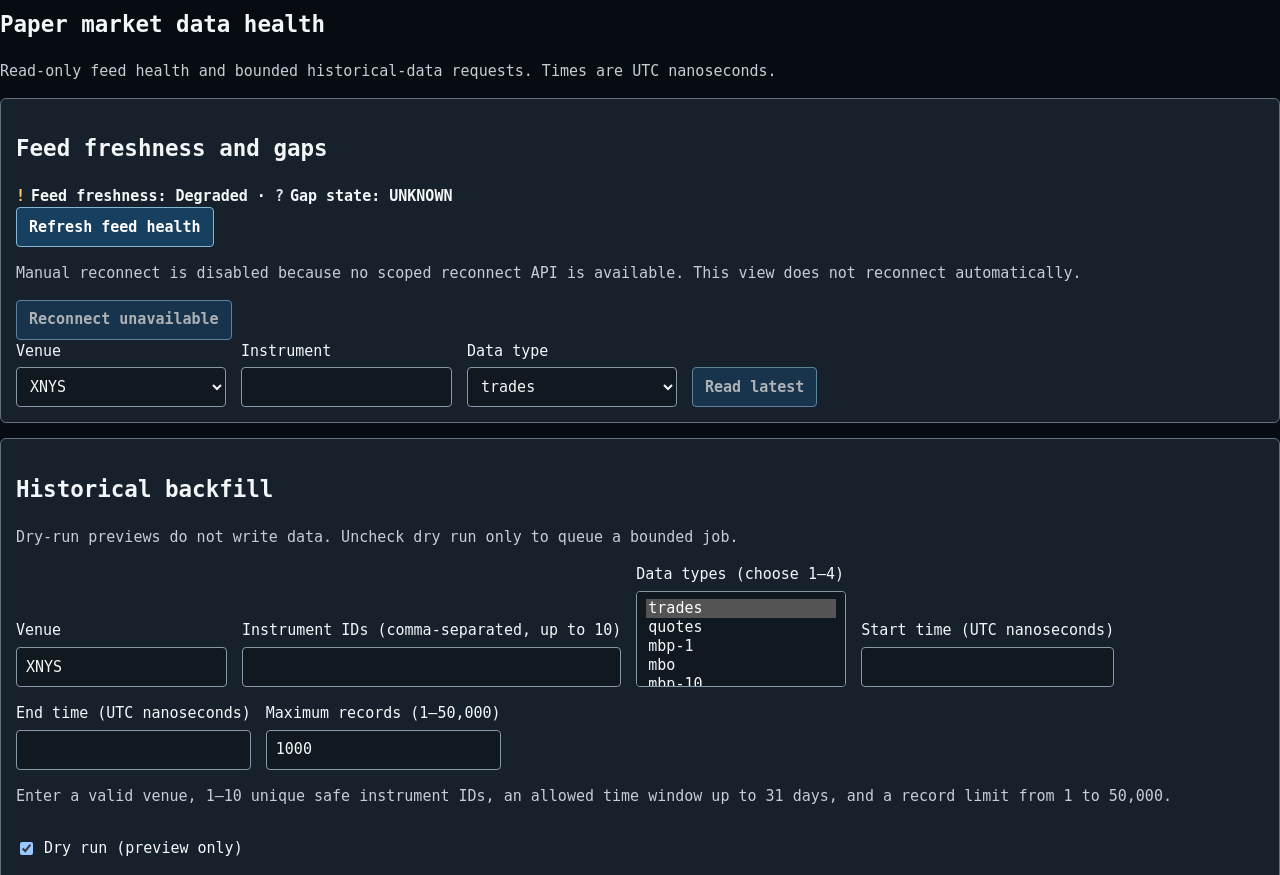
Test: PAPER-MARKET-DATA-HEALTH-UI-001 independent acceptance › rejects a QUEUED body with HTTP 200 and does not show a queued job
Type "AAPL" into the field named "Backfill instruments" at (432, 667), box [242,647,621,687]
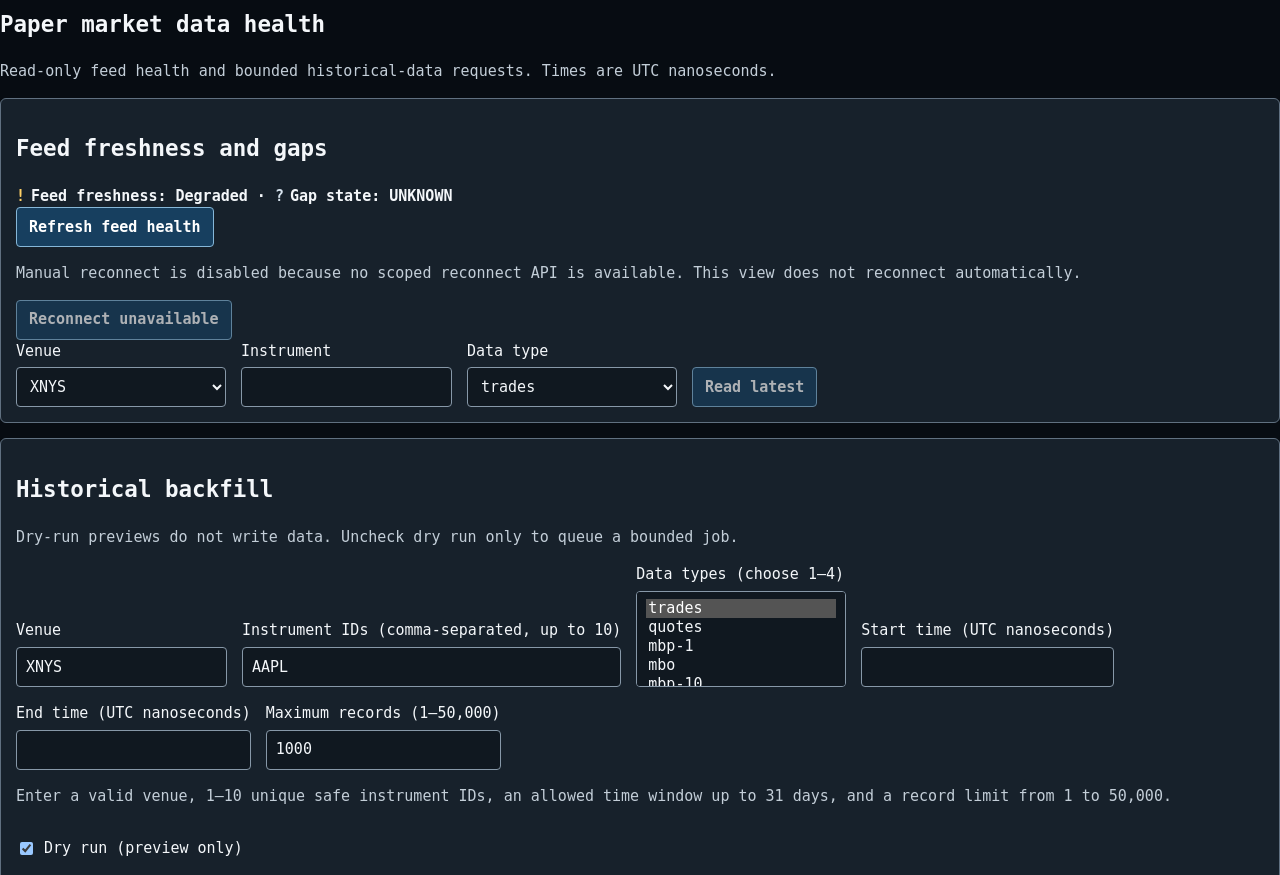
Type "1710000000000000001" into the field named "Backfill start time UTC nanoseconds" at (988, 667), box [861,647,1114,687]
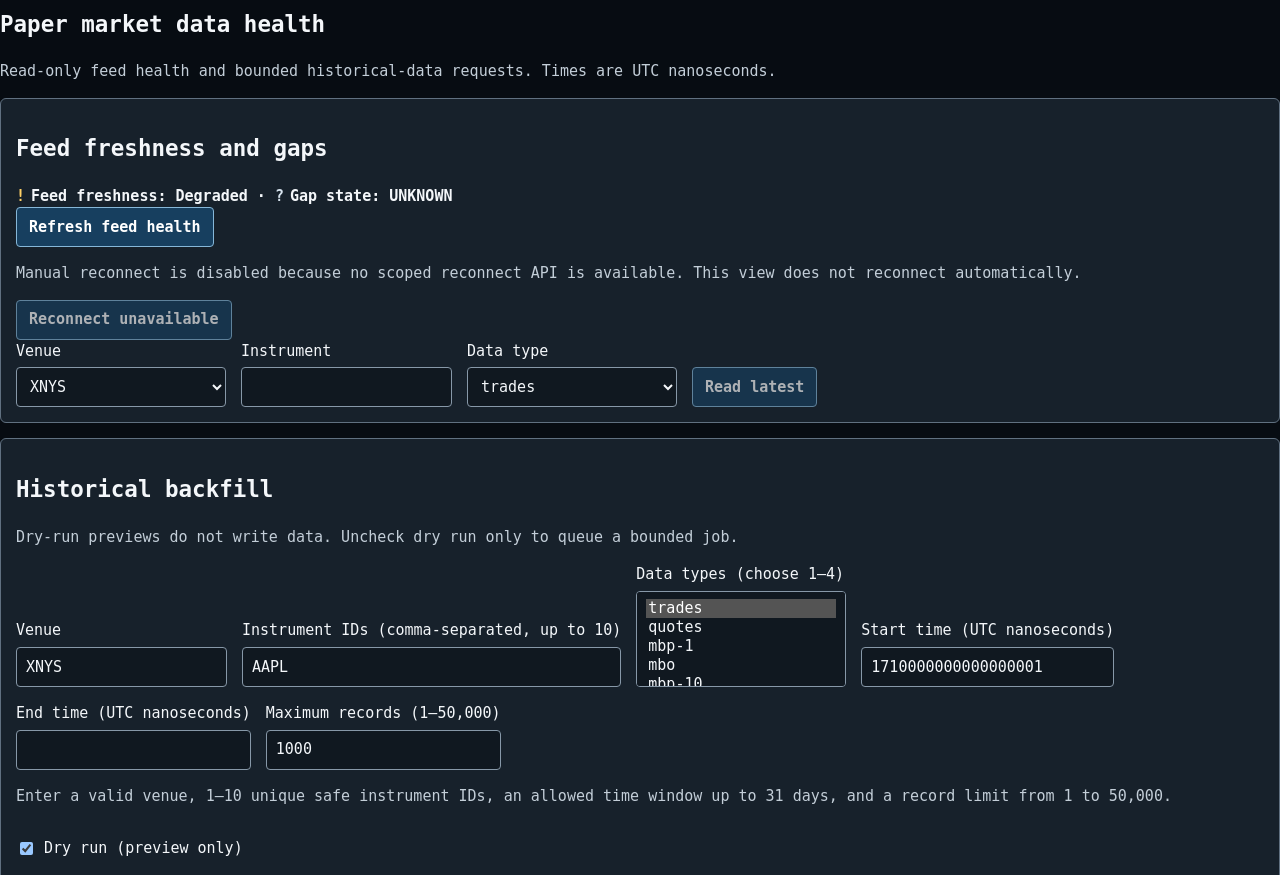
Type "1710000000000000999" into the field named "Backfill end time UTC nanoseconds" at (133, 750), box [16,730,251,770]
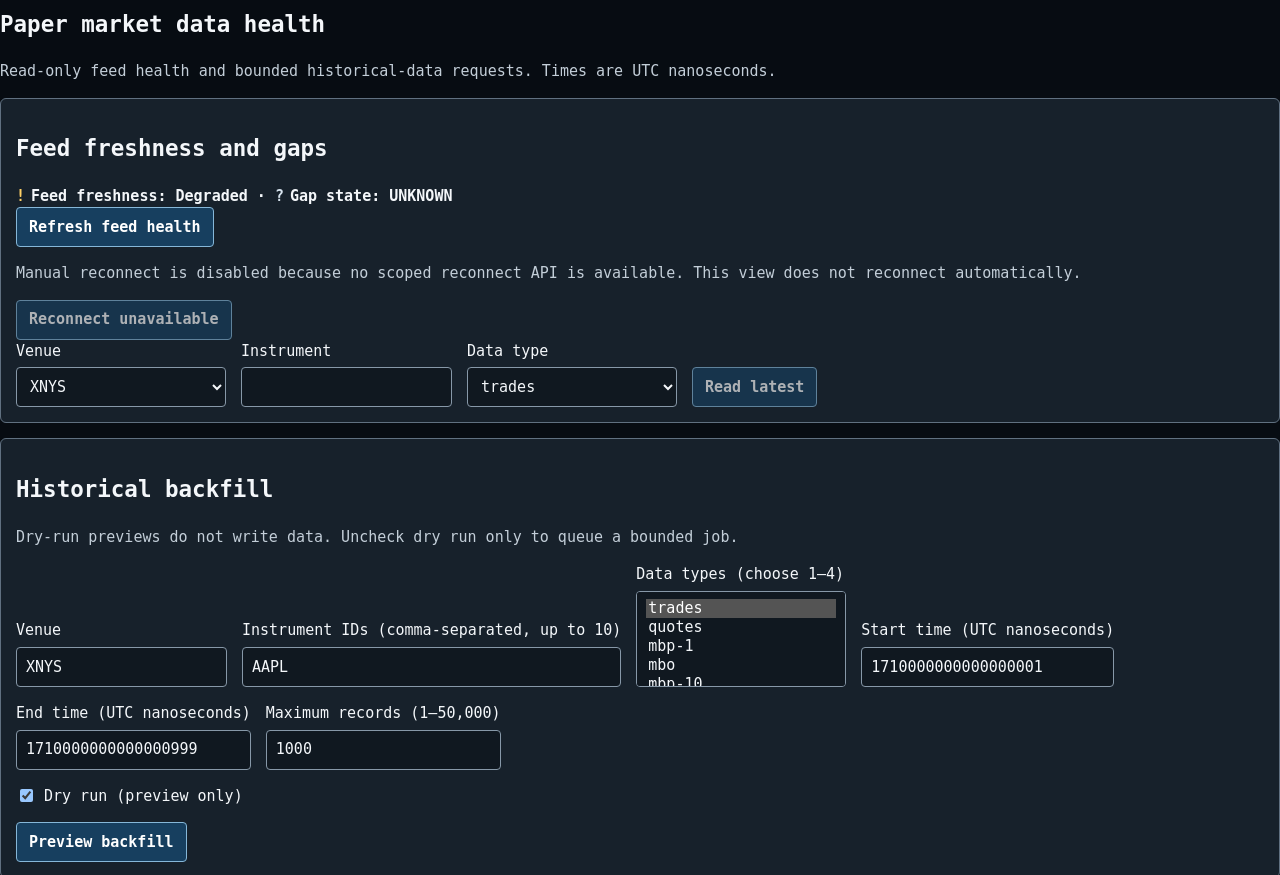
Click the checkbox named "Dry run backfill" at (26, 796), box [20,789,33,802]
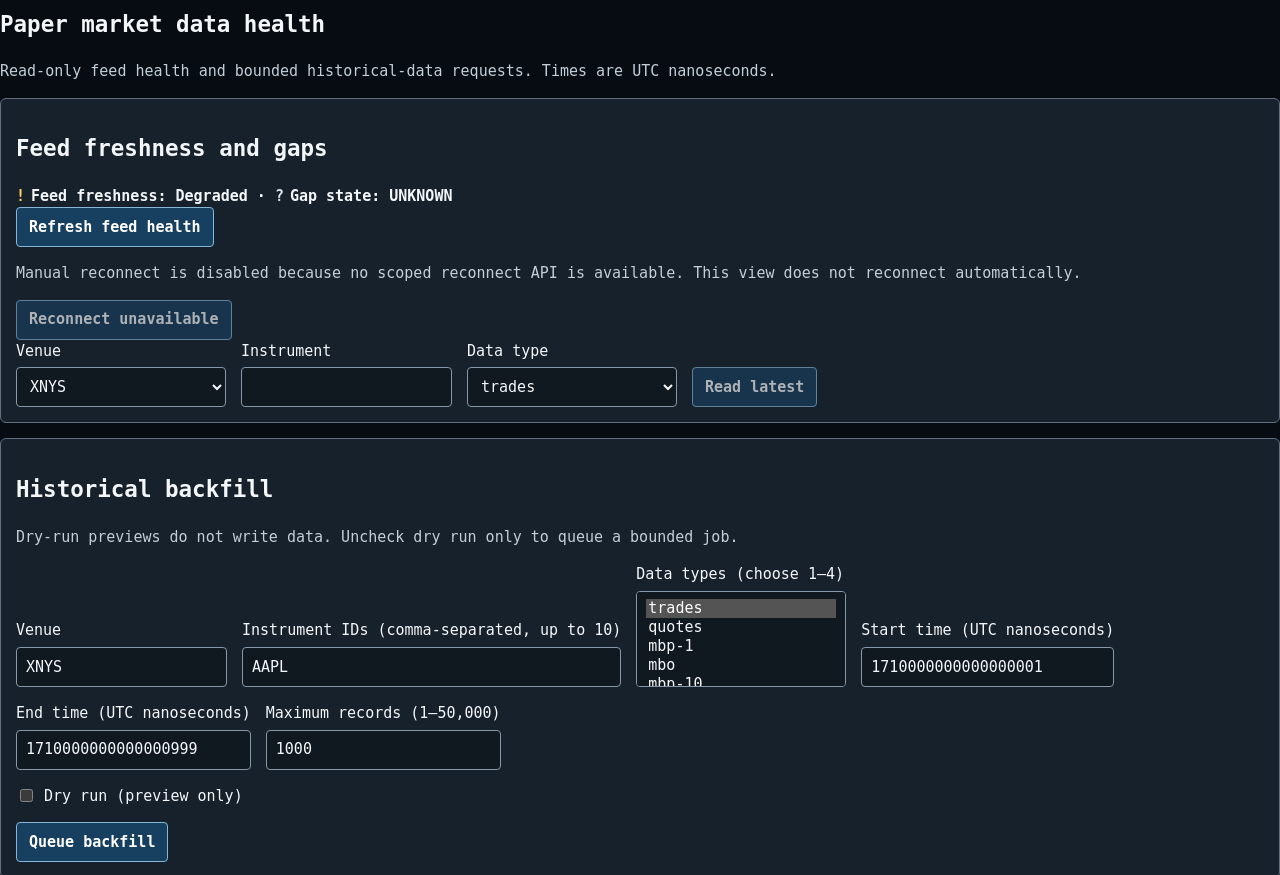
Click the button "Queue backfill" at (92, 842), box [16,822,168,862]
(page scrolled)
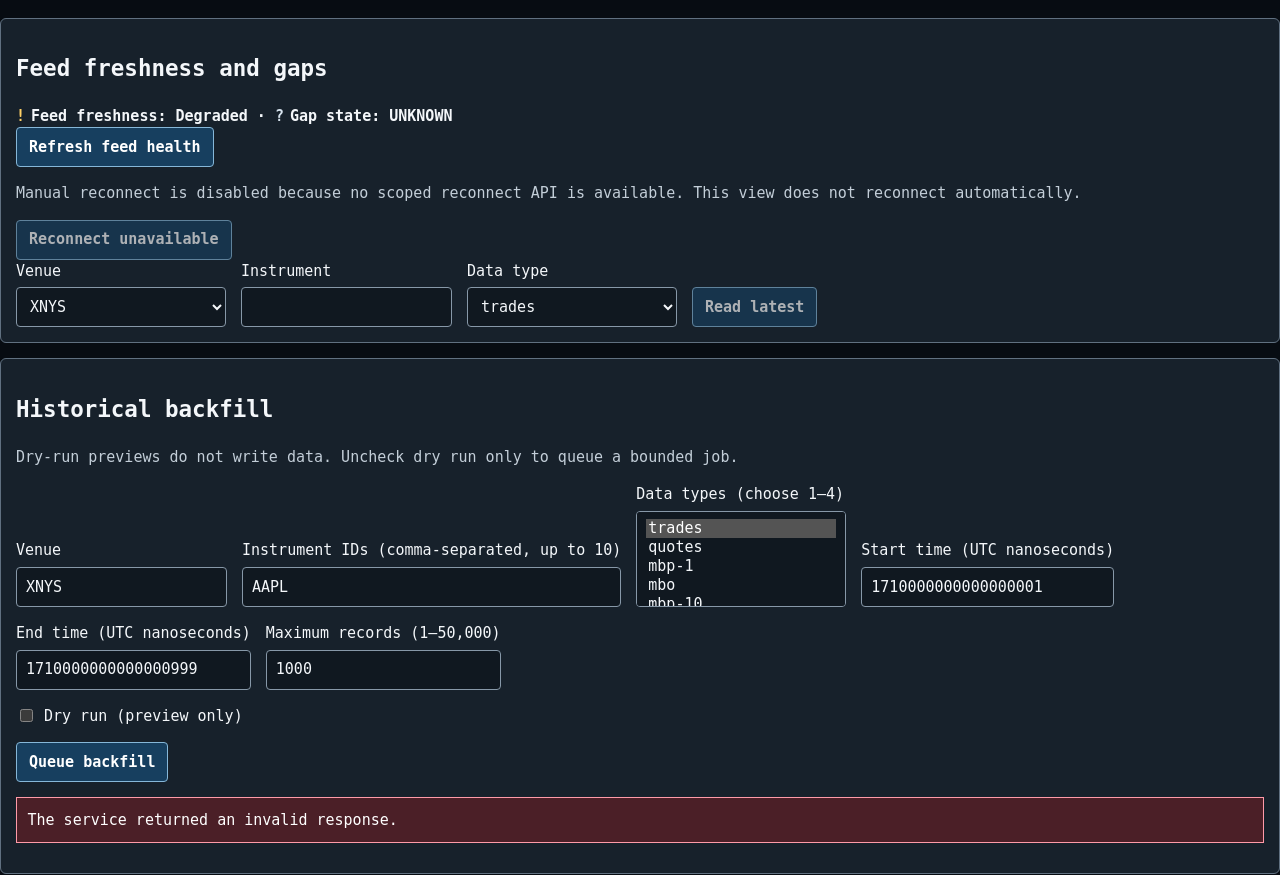
Now the message "The service returned an invalid response." is shown, box [16,797,1264,842]
